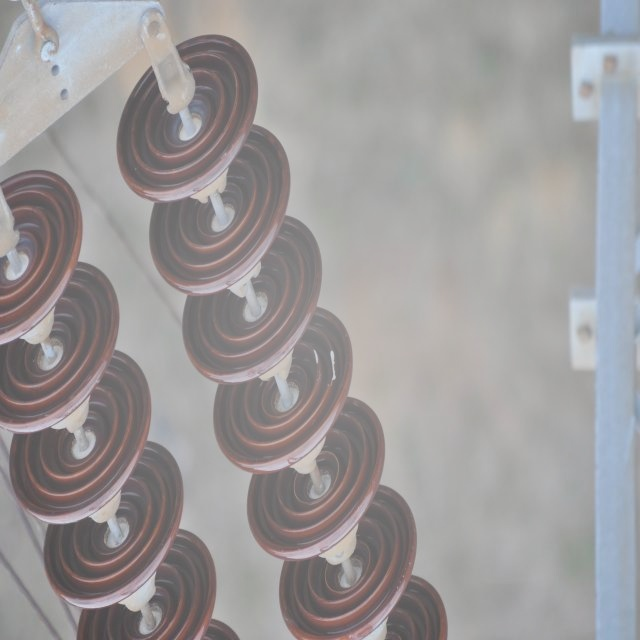insulator: (0, 34, 447, 639)
